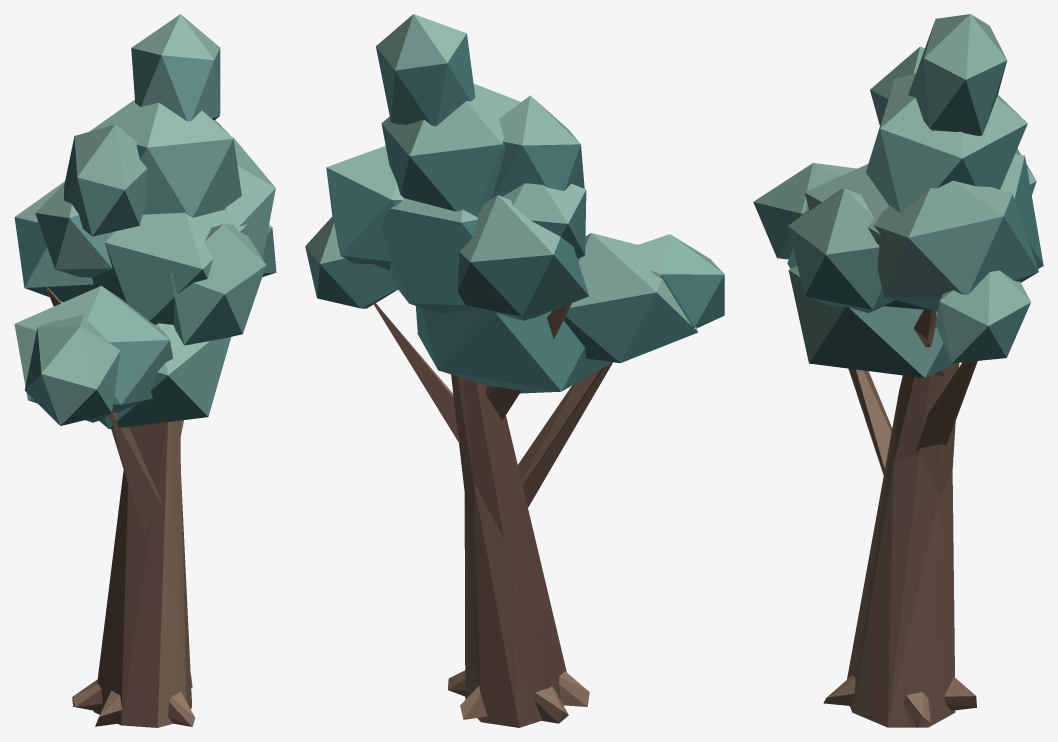
3 renders of one model, left to right at view 1: azimuth 30°, elevation 25°; view 2: azimuth 150°, elevation 25°; view 3: azimuth 270°, elevation 25°, orthographic. The views are drawn at different scales.
Visible parts, largest first — view 1: WK_RegularTree_CoolEvergreen_LOD1_Balanced; view 2: WK_RegularTree_CoolEvergreen_LOD1_Balanced; view 3: WK_RegularTree_CoolEvergreen_LOD1_Balanced.
Boxes of the visible parts, bbox=[...] form: WK_RegularTree_CoolEvergreen_LOD1_Balanced: bbox=[14, 14, 276, 727]; WK_RegularTree_CoolEvergreen_LOD1_Balanced: bbox=[305, 14, 724, 727]; WK_RegularTree_CoolEvergreen_LOD1_Balanced: bbox=[753, 14, 1043, 727].
Bounding box in the file's own units: 3.62 × 7.38 × 2.65.
